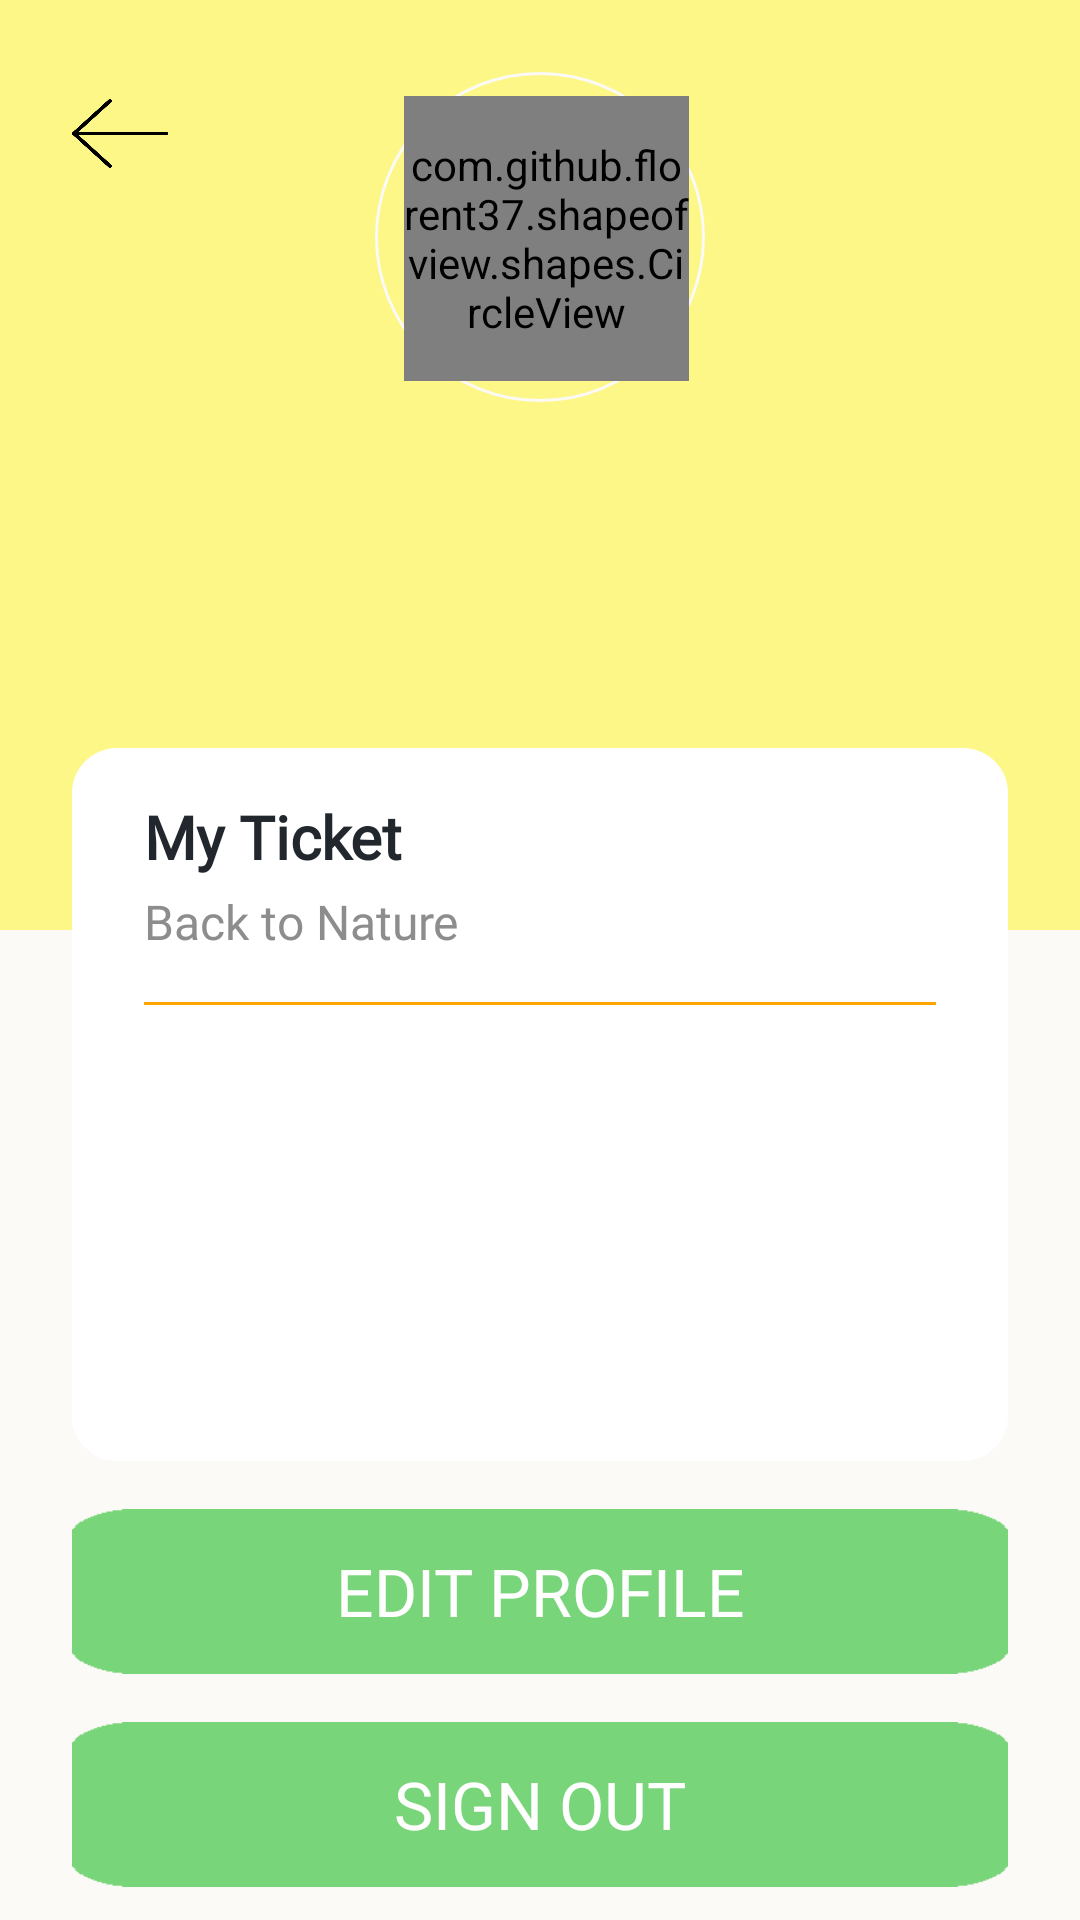

Locate icon controls on the screen. Image size 1080x1920, boxes as BBox(x1, y1, x2, y2).
buttonback: BBox(72, 99, 168, 168)
